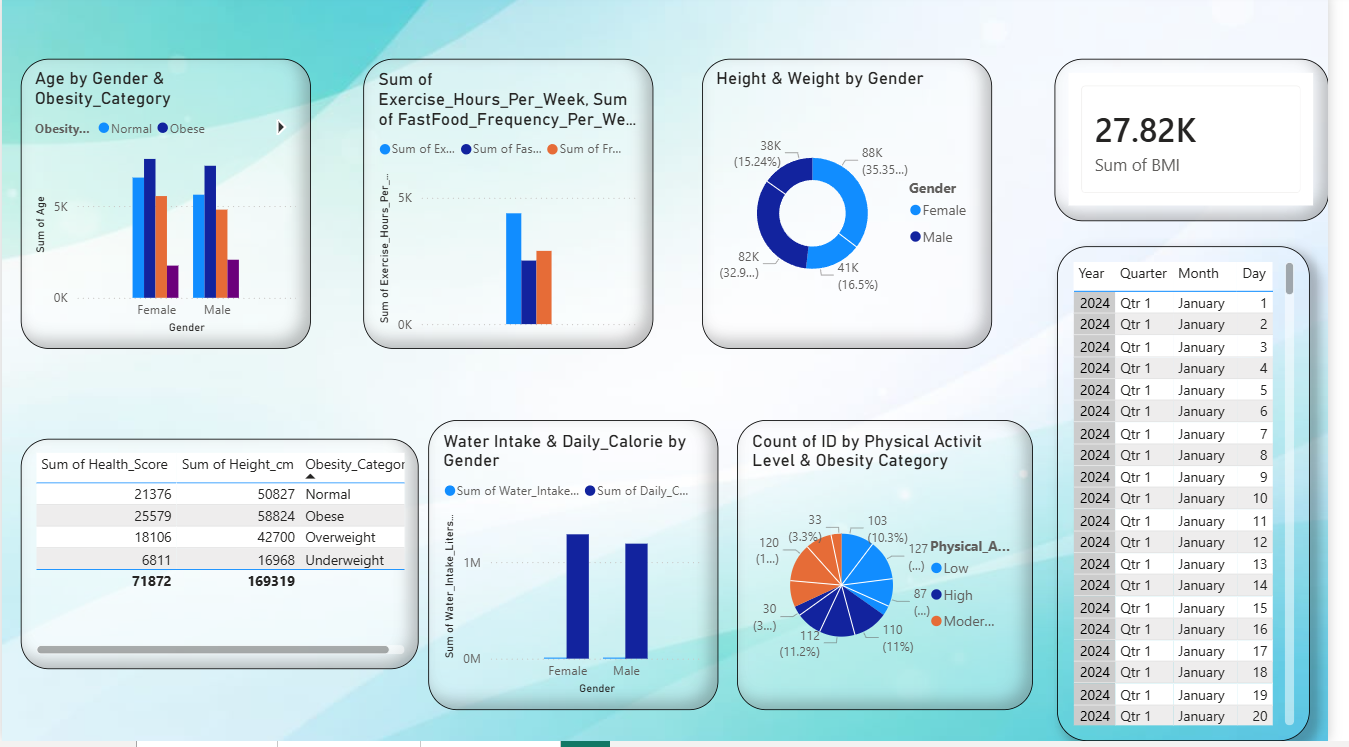

This screenshot's page, from the dashboard's own definition file:
{"tool":"powerbi","page":{"name":"MILESTONE 2","canvas":[1280,720],"ordinal":1},"visuals":[{"type":"clusteredColumnChart","title":"Age by Gender & Obesity_Category","fields":{"Y":["Sum(Sheet 2.Age)"],"Category":["Sheet 2.Gender"],"Series":["Sheet 2.Obesity_Category"]},"box":[17.8,61.7,279.9,279.9],"z":0},{"type":"donutChart","title":"Height &  Weight by Gender","fields":{"Category":["Sheet 2.Gender"],"Y":["Sum(Sheet 2.Height_cm)","Sum(Sheet 2.Weight_kg)"]},"box":[675.1,61.7,279.9,279.9],"z":1000},{"type":"pieChart","title":"Count of ID by Physical Activit Level & Obesity Category","fields":{"Category":["Sheet 2.Physical_Activity_Level"],"Series":["Sheet 2.Obesity_Category"],"Y":["CountNonNull(Sheet 2.ID)"]},"box":[709.4,410.3,285.4,279.9],"z":2000},{"type":"clusteredColumnChart","title":"Water Intake & Daily_Calorie by Gender","fields":{"Y":["Sum(Sheet 2.Water_Intake_Liters)","Sum(Sheet 2.Daily_Calorie_Intake)"],"Category":["Sheet 2.Gender"]},"box":[411.7,410.3,279.9,279.9],"z":3000},{"type":"clusteredColumnChart","fields":{"Y":["Sum(Sheet 2.Exercise_Hours_Per_Week)","Sum(Sheet 2.FastFood_Frequency_Per_Week)","Sum(Sheet 2.Fruit_Veg_Servings_Per_Day)"]},"box":[348.5,61.7,279.9,279.9],"z":4000},{"type":"tableEx","fields":{"Values":["Sum(Sheet 2.Health_Score)","Sum(Sheet 2.Height_cm)","Sheet 2.Obesity_Category"]},"box":[17.8,428.1,384.2,222.3],"z":5000},{"type":"cardVisual","fields":{"Data":["Sum(Sheet 2.BMI)"]},"box":[1015.4,61.7,264.8,156.4],"z":6000},{"type":"tableEx","fields":{"Values":["Dietary_Data.Order_Date.Variation.Date Hierarchy.Year","Dietary_Data.Order_Date.Variation.Date Hierarchy.Quarter","Dietary_Data.Order_Date.Variation.Date Hierarchy.Month","Dietary_Data.Order_Date.Variation.Date Hierarchy.Day"]},"box":[1018.2,242.9,244.3,477.5],"z":7000}]}

Visuals, with their boxes in screenshot pixels (x1, y1, x2, y2), scaled from the page's 1280x720 canvas onto the 1349x747 screenshot:
"Age by Gender & Obesity_Category" clusteredColumnChart: [x1=19, y1=64, x2=314, y2=354]
"Height &  Weight by Gender" donutChart: [x1=711, y1=64, x2=1006, y2=354]
"Count of ID by Physical Activit Level & Obesity Category" pieChart: [x1=748, y1=426, x2=1048, y2=716]
"Water Intake & Daily_Calorie by Gender" clusteredColumnChart: [x1=434, y1=426, x2=729, y2=716]
clusteredColumnChart - Sum(Sheet 2.Exercise_Hours_Per_Week) x Sum(Sheet 2.FastFood_Frequency_Per_Week): [x1=367, y1=64, x2=662, y2=354]
tableEx - Sum(Sheet 2.Health_Score) x Sum(Sheet 2.Height_cm): [x1=19, y1=444, x2=424, y2=675]
cardVisual - Sum(Sheet 2.BMI): [x1=1070, y1=64, x2=1348, y2=226]
tableEx - Dietary_Data.Order_Date.Variation.Date Hierarchy.Year x Dietary_Data.Order_Date.Variation.Date Hierarchy.Quarter: [x1=1073, y1=252, x2=1331, y2=746]
